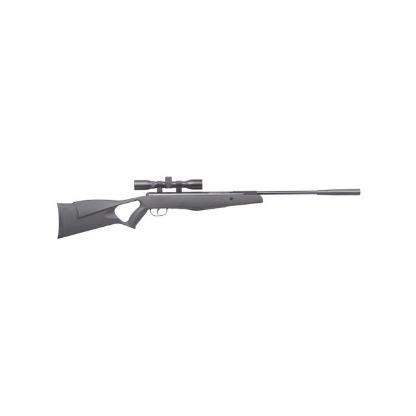gun: (53, 176, 361, 240)
